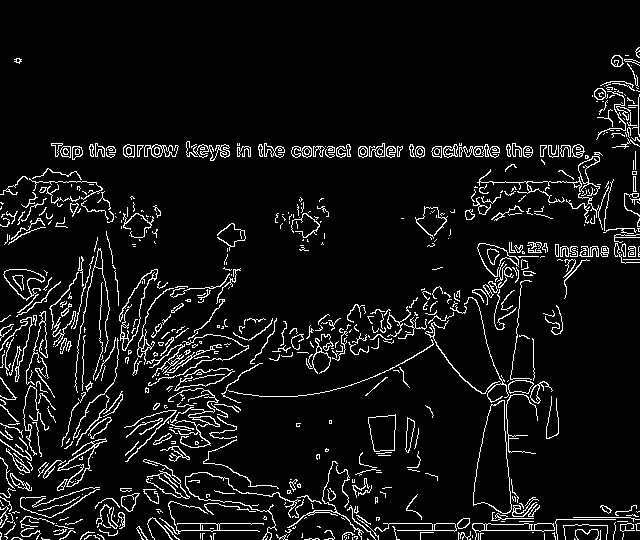down: (412, 203, 451, 240)
left: (209, 217, 252, 256)
right: (287, 209, 324, 244)
up: (118, 208, 161, 247)
